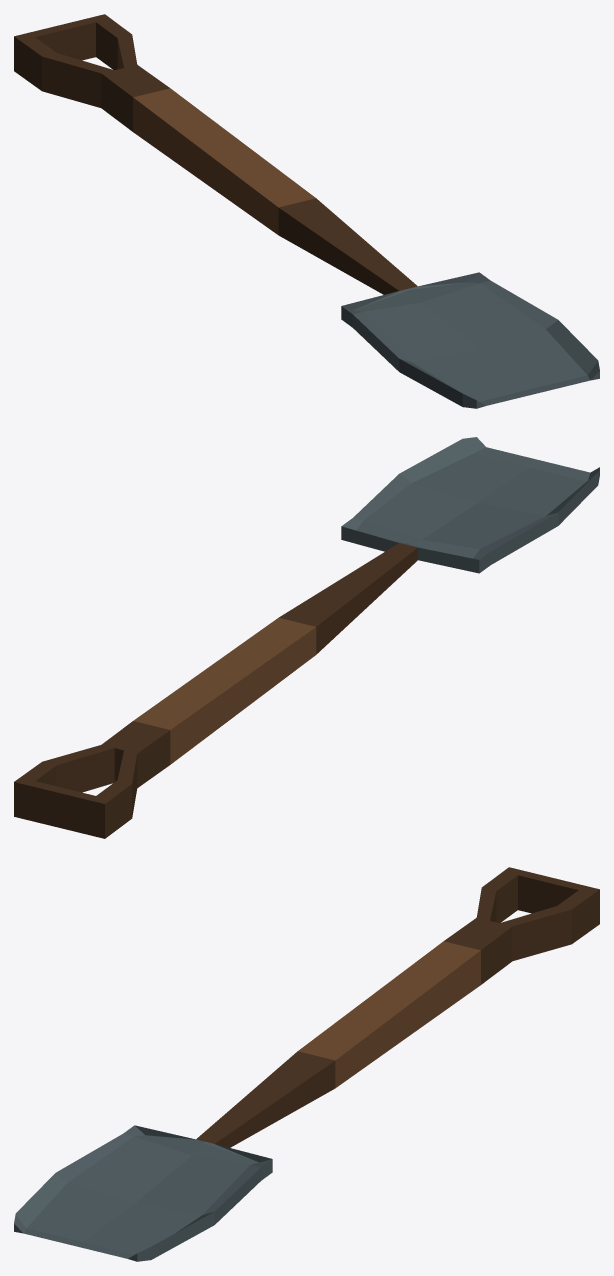
File: Shovel_2_Dark_Brown.fbx
The picture shows the model from 3 angles, top to bottom: view 1: azimuth 30°, elevation 25°; view 2: azimuth 150°, elevation 25°; view 3: azimuth 330°, elevation 25°; orthographic projection.
Parts seen in each view (by area): view 1: Shovel_2_Dark_Brown; view 2: Shovel_2_Dark_Brown; view 3: Shovel_2_Dark_Brown.
Boxes of the visible parts, x1,y1,x2,y2 form: Shovel_2_Dark_Brown: (14,14,599,408); Shovel_2_Dark_Brown: (14,437,599,838); Shovel_2_Dark_Brown: (14,867,599,1261).
Bounding box in the file's own units: 38.28 × 8.01 × 200.
